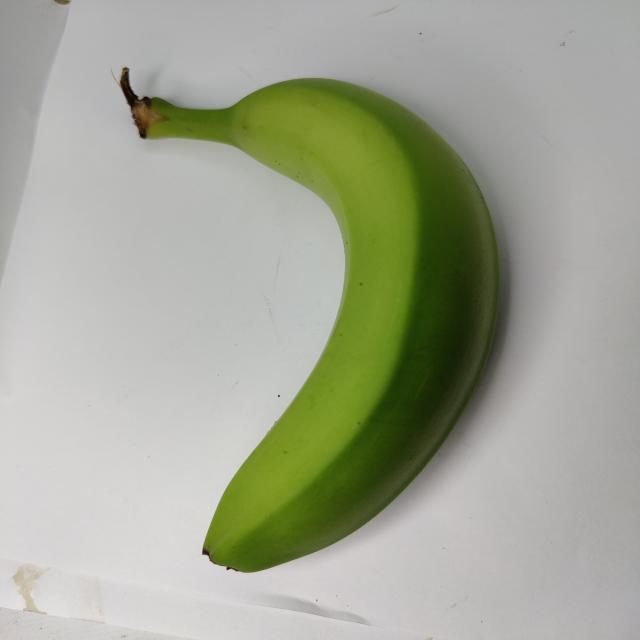raw: (81, 53, 566, 600)
